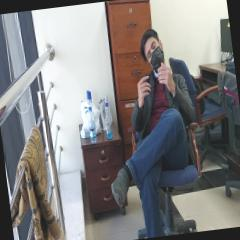not-gloved: (154, 60, 176, 95), (135, 76, 153, 109)
